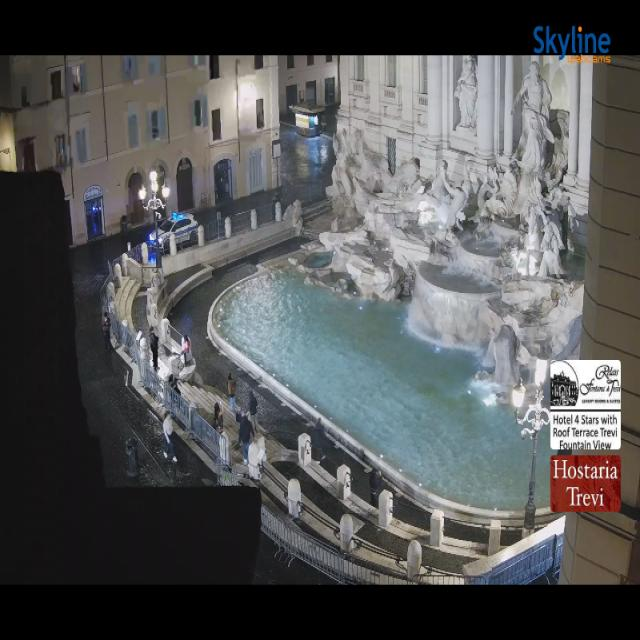person: (240, 413, 255, 464), (163, 411, 177, 462), (310, 418, 324, 461), (369, 470, 382, 508), (149, 327, 159, 371), (249, 390, 257, 432), (103, 312, 111, 350), (168, 375, 181, 396), (228, 373, 235, 412), (182, 335, 191, 365), (214, 403, 223, 432)
